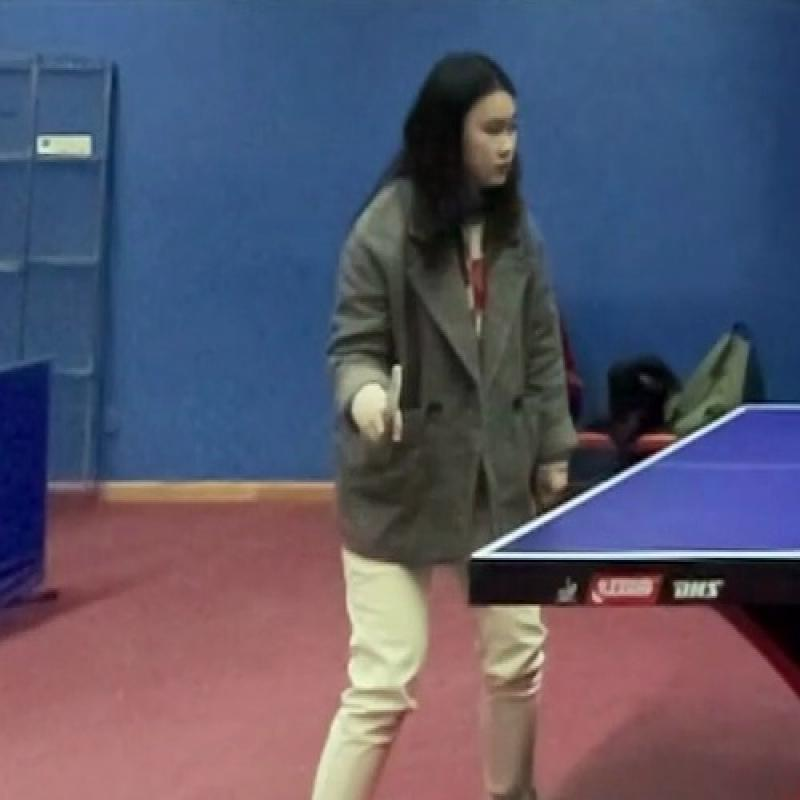bats: (335, 350, 438, 464)
